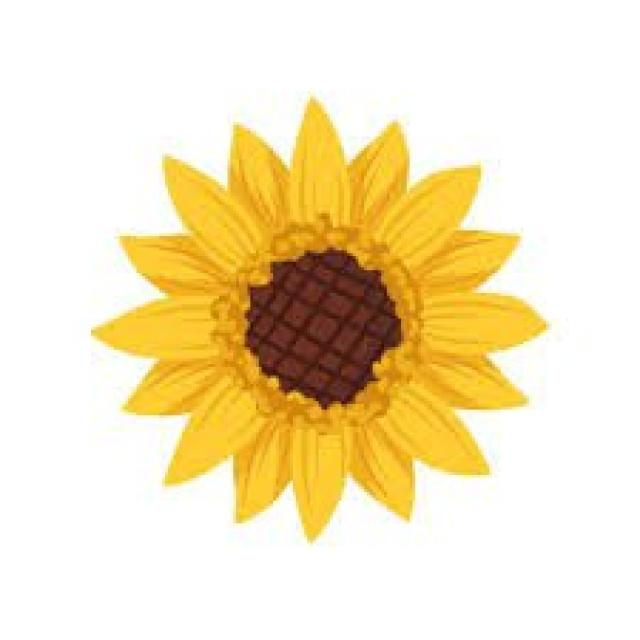sunflower: (88, 94, 546, 540)
